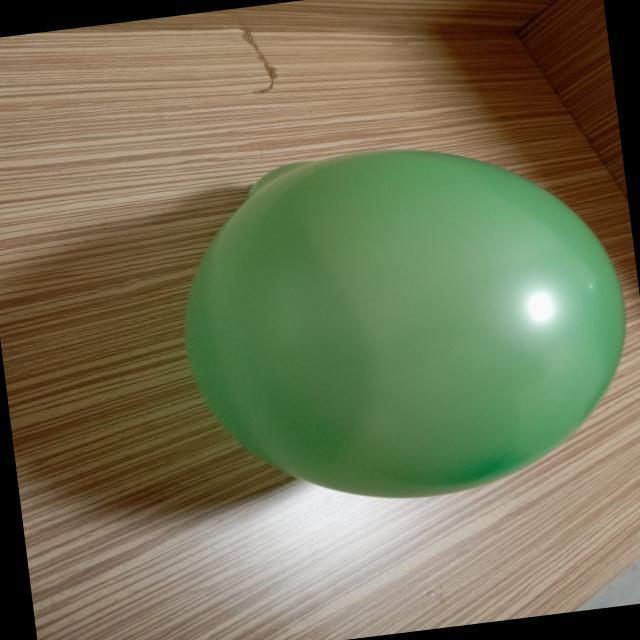balloon: (185, 149, 625, 497)
